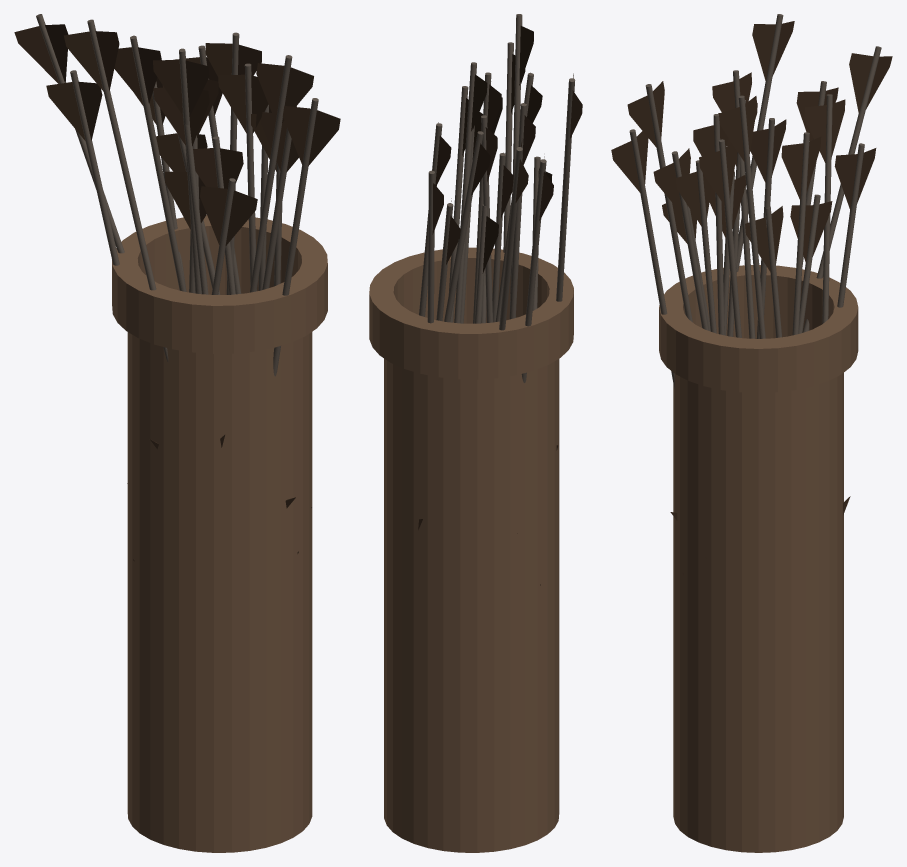
The model's file is caja.fbx.
3 views of the same model, side by side, from view 1: azimuth 30°, elevation 25°; view 2: azimuth 150°, elevation 25°; view 3: azimuth 270°, elevation 25° (orthographic). The views are drawn at different scales.
Parts seen in each view (by area): view 1: Cylinder.001; view 2: Cylinder.001; view 3: Cylinder.001.
Part boxes in pixels (box(x1,y1,x2,y2)): Cylinder.001: box(14, 14, 340, 852); Cylinder.001: box(369, 14, 582, 852); Cylinder.001: box(611, 14, 892, 852).
Bounding box in the file's own units: 275 × 928 × 316.
Materials: 1 (1 with a texture image).
